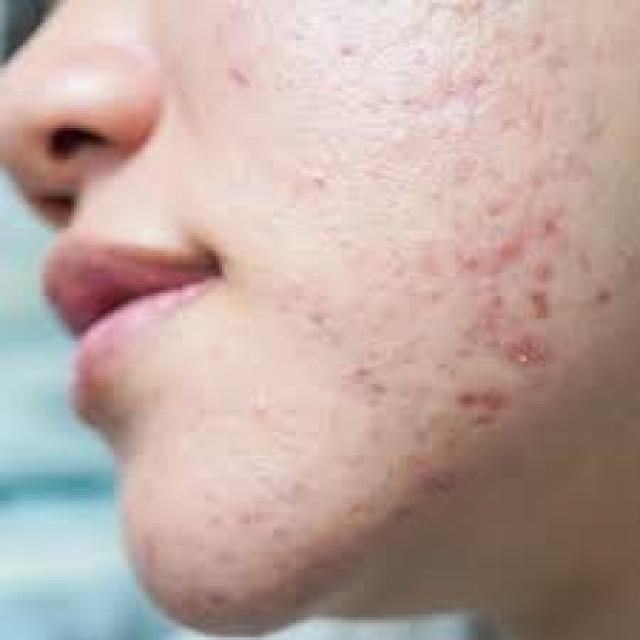Acne: (402, 110, 609, 508)
